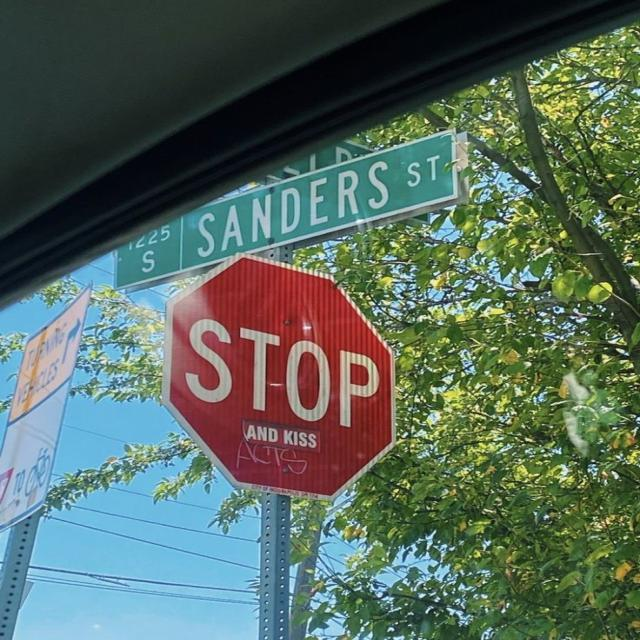stop: (160, 253, 396, 500)
